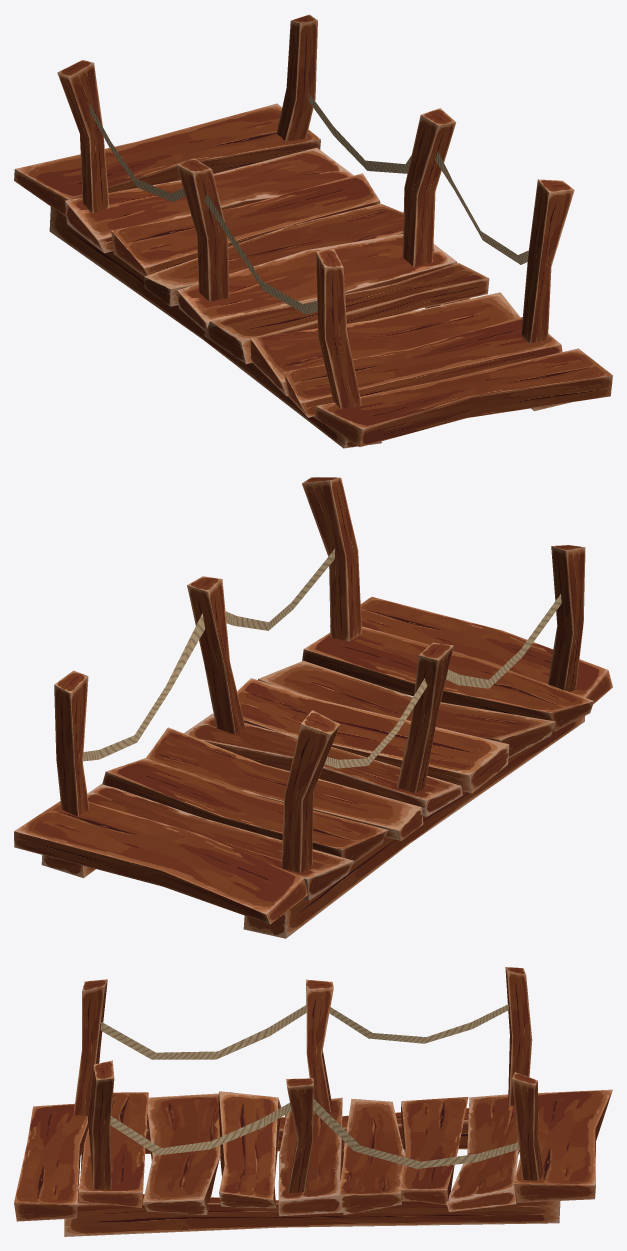
The model's file is SM_PROP_bridge_wood_01.fbx.
The picture shows the model from 3 angles, top to bottom: view 1: azimuth 30°, elevation 25°; view 2: azimuth 150°, elevation 25°; view 3: azimuth 270°, elevation 25°; orthographic projection. The views are drawn at different scales.
Parts seen in each view (by area): view 1: SM_PROP_bridge_wood_01; view 2: SM_PROP_bridge_wood_01; view 3: SM_PROP_bridge_wood_01.
Part boxes in pixels (x1,y1,x2,y2): SM_PROP_bridge_wood_01: (14,14,612,448); SM_PROP_bridge_wood_01: (14,477,612,938); SM_PROP_bridge_wood_01: (14,967,612,1236).
Size of what is drawn, in the model's own units: 199 by 143 by 442.
